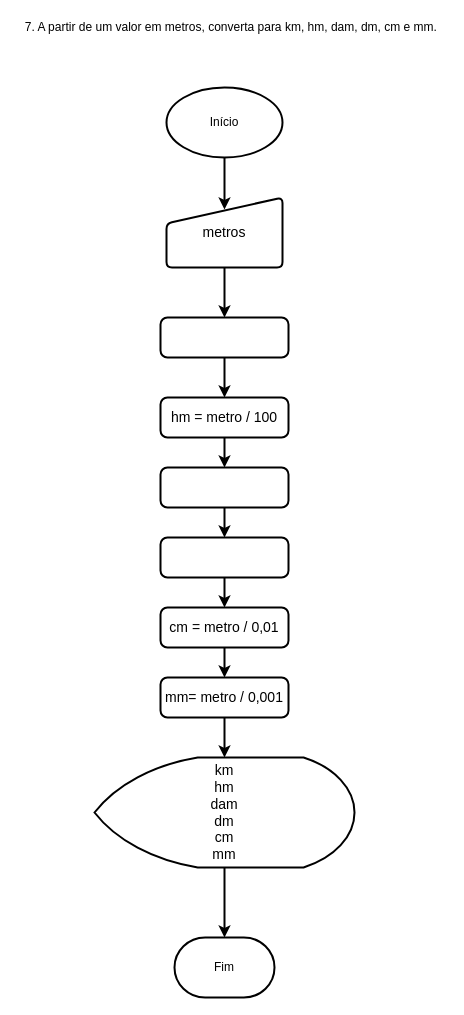
Some shapes in this 464 by 1015 pixel diagram are drawn without their labels. Here are the shapes that lost their labels. From the top down, the box of each, then its label:
(159, 316, 289, 358): km = metro / 1000
(159, 466, 289, 508): dam = metro / 10
(159, 536, 289, 578): dm = metro / 0,1
